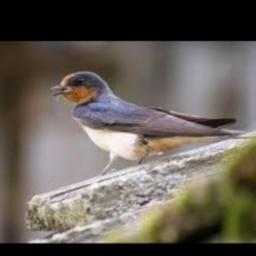Swallow: (49, 72, 244, 175)
